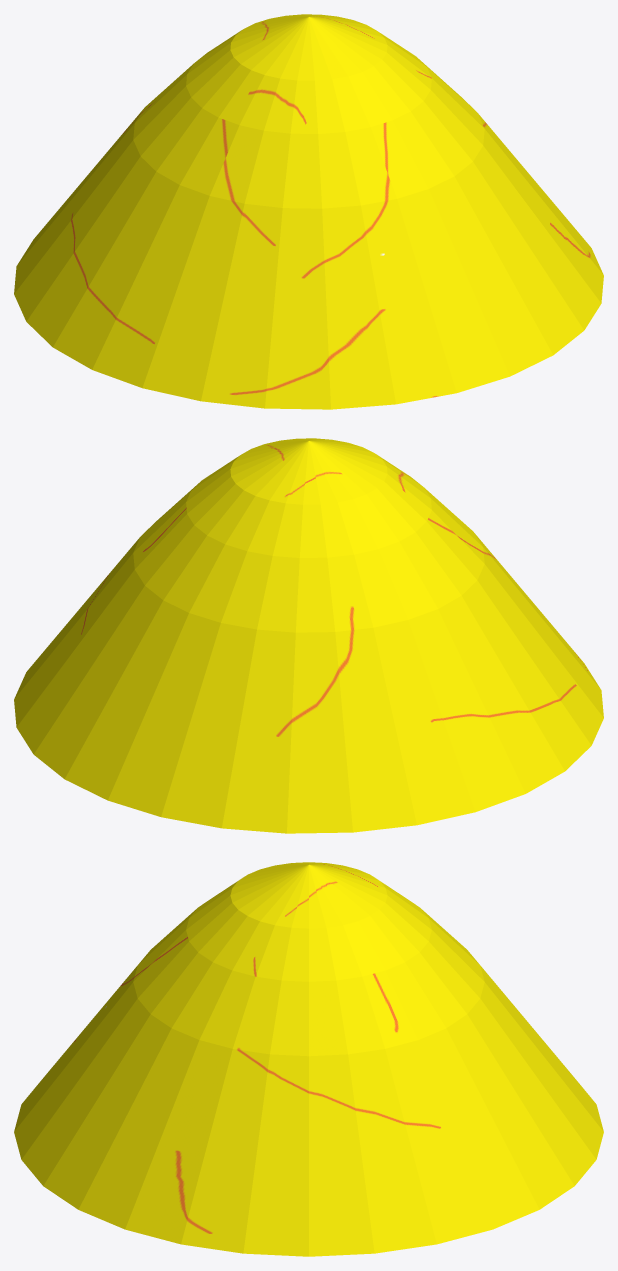
Rendered from kopa.fbx.
3 views of the same model, one above another, from view 1: azimuth 30°, elevation 25°; view 2: azimuth 150°, elevation 25°; view 3: azimuth 270°, elevation 25° (orthographic).
Visible parts, largest first — view 1: Cone; view 2: Cone; view 3: Cone.
Part boxes in pixels (x1=…): Cone: x1=14, y1=14, x2=603, y2=409; Cone: x1=14, y1=438, x2=603, y2=833; Cone: x1=14, y1=862, x2=603, y2=1256.
Size of the model in its own units: 200 by 100 by 200.
